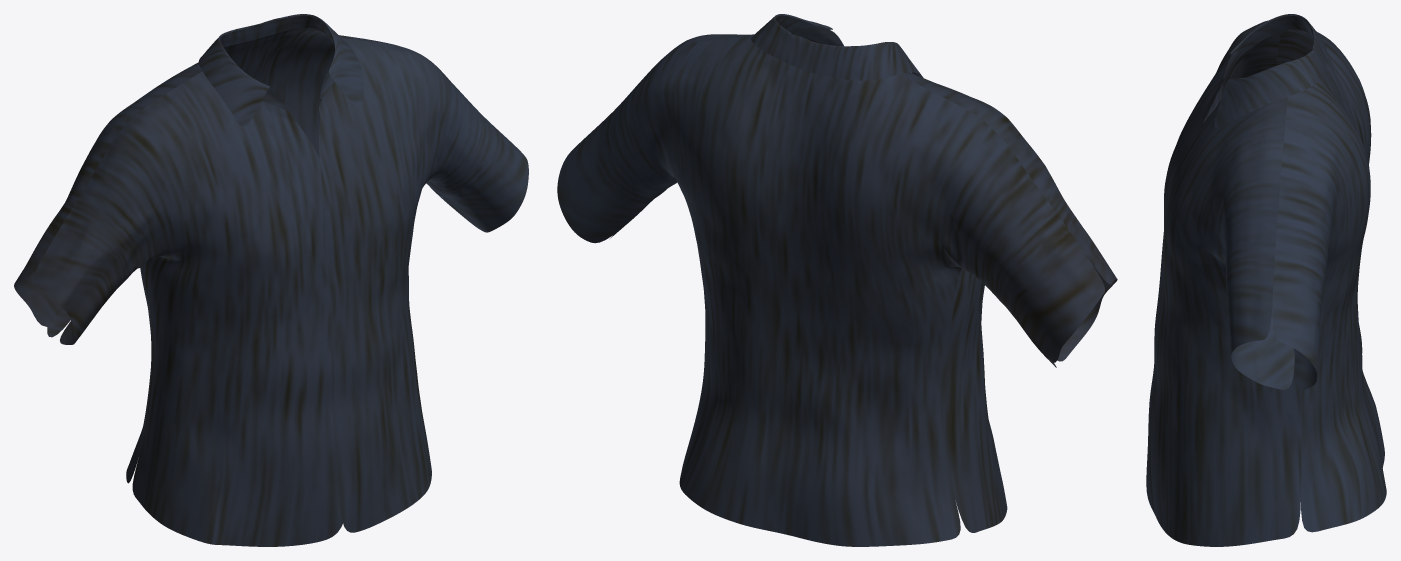
Rendered from SXL_SMM.dae.
3 views of the same model, side by side, from view 1: azimuth 30°, elevation 25°; view 2: azimuth 150°, elevation 25°; view 3: azimuth 270°, elevation 25° (orthographic). The views are drawn at different scales.
Visible parts, largest first — view 1: shortshirt; view 2: shortshirt; view 3: shortshirt.
Boxes of the visible parts, left/top/right/bottom form: shortshirt: left=14, top=14, right=528, bottom=546; shortshirt: left=557, top=14, right=1117, bottom=546; shortshirt: left=1146, top=14, right=1386, bottom=546.
Bounding box in the file's own units: 7.19 × 6.36 × 2.98.
